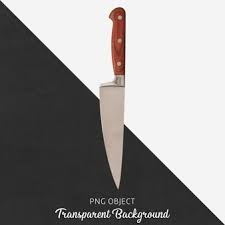kuchillu: (96, 4, 137, 190)
